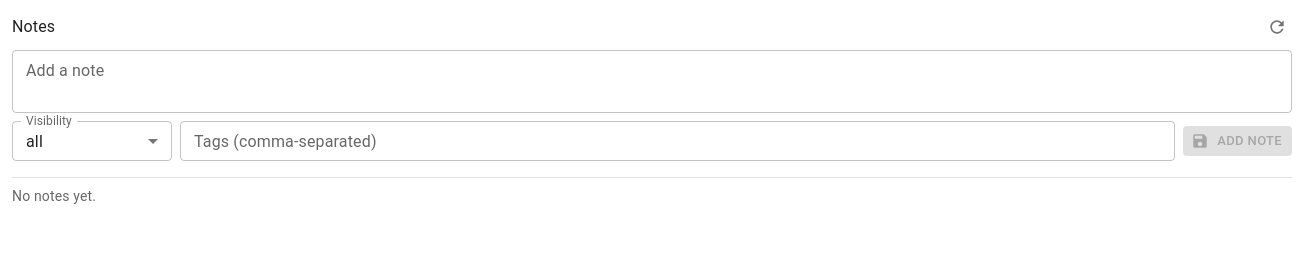
Test: NotesPanel › shows an error alert when note creation fails
Check: the element with test id "task-detail-note-form" is shown, box x1=12 y1=50 x2=1292 y2=161
Step 1. Type "failing note" into the text box named "note content" → (652, 82), box x1=26 y1=58 x2=1278 y2=104
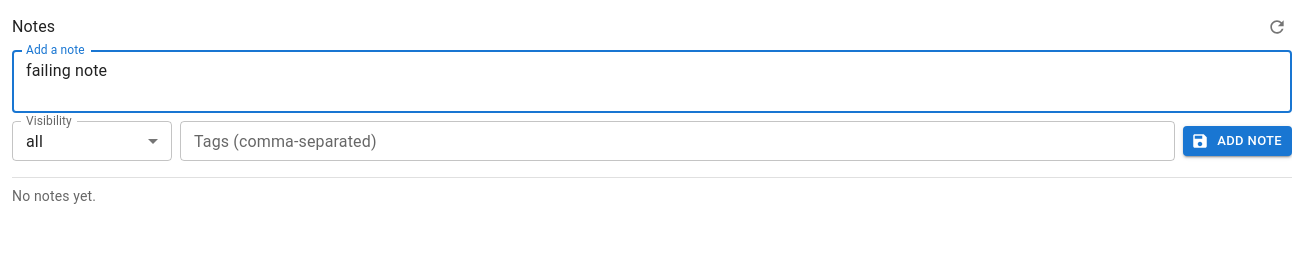
Step 2. Click the button "Add note" → (1238, 141), box x1=1183 y1=126 x2=1292 y2=156
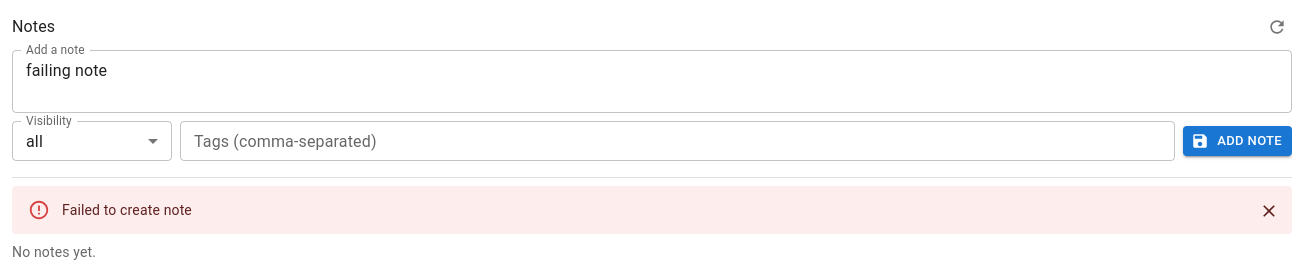
Check: the message "Failed to create note" is shown, box x1=12 y1=186 x2=1292 y2=234
